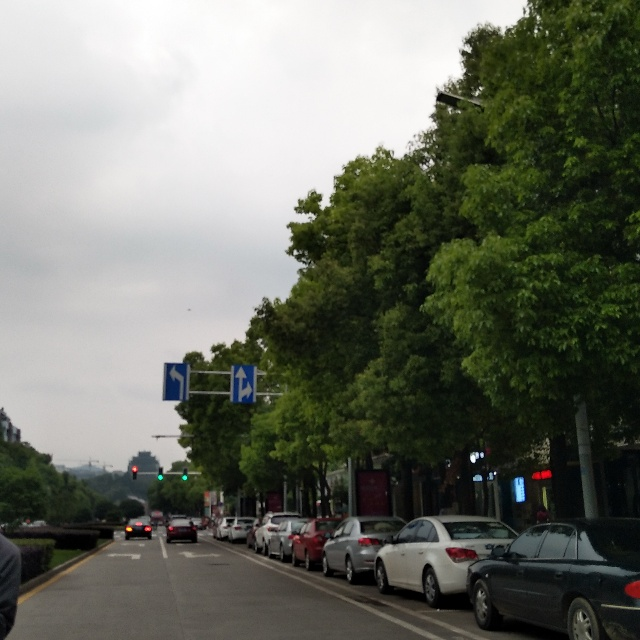left: (164, 363, 188, 400)
